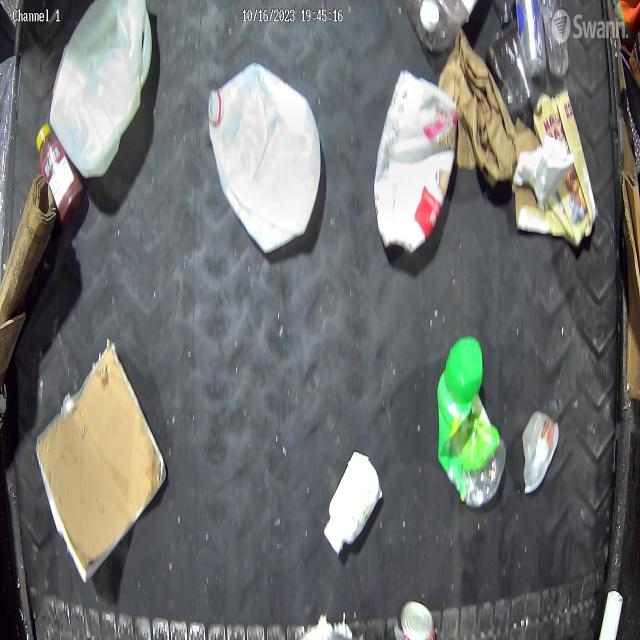can: (396, 600, 438, 640)
milk_jug: (208, 62, 322, 256), (48, 0, 154, 180)
plastic_bottle: (373, 69, 458, 252), (542, 0, 570, 78)
